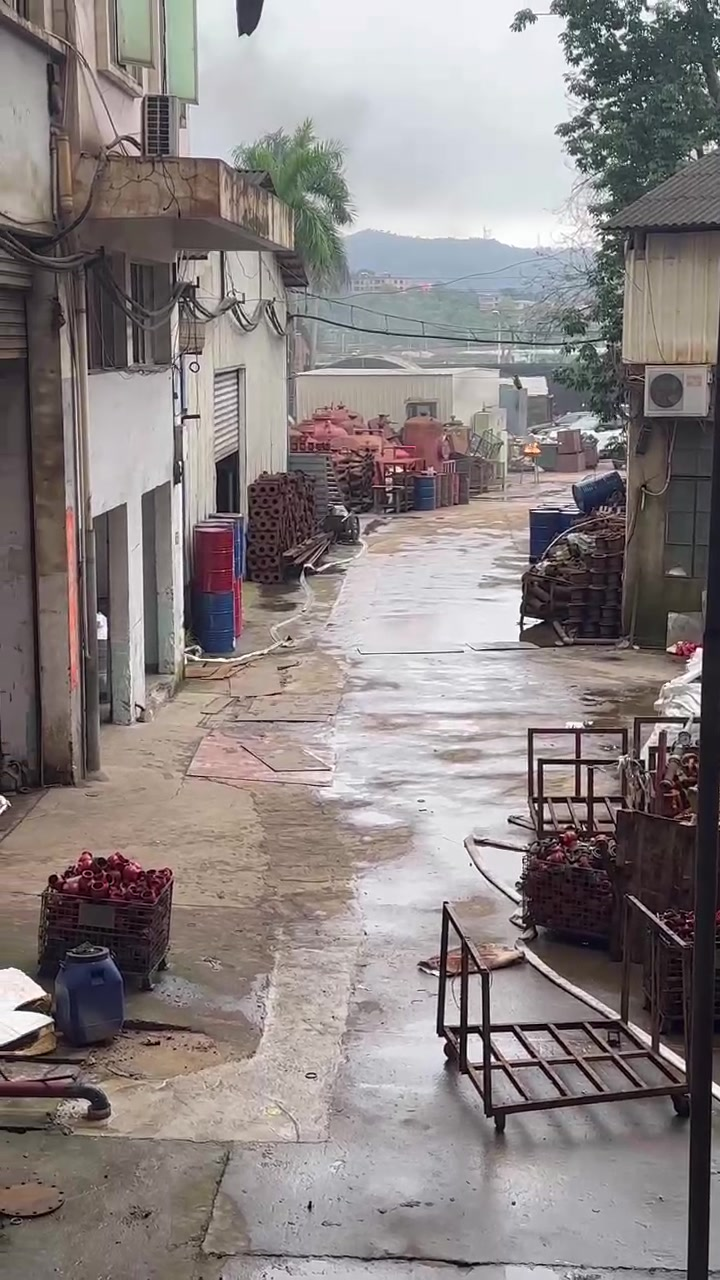fire: (523, 443, 539, 452)
